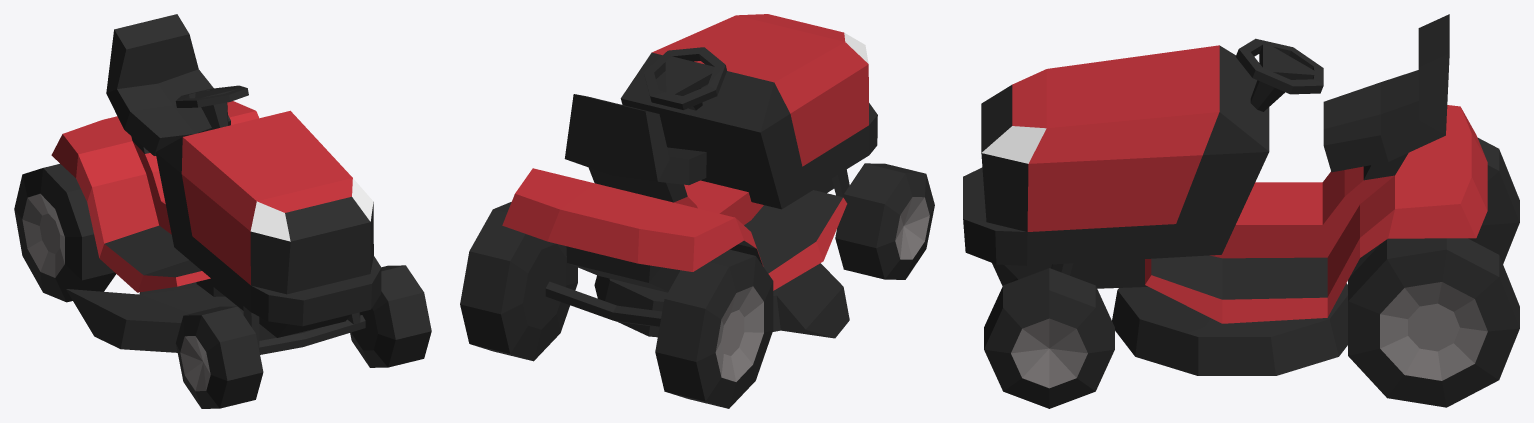
Rendered from vehicles_lawn-mower-ride.fbx.
3 views of the same model, side by side, from view 1: azimuth 30°, elevation 25°; view 2: azimuth 150°, elevation 25°; view 3: azimuth 270°, elevation 25° (orthographic). The views are drawn at different scales.
Visible parts, largest first — view 1: lawn_mower_ride_base, lawn_mower_ride_BR, lawn_mower_ride_FR, lawn_mower_ride_FL; view 2: lawn_mower_ride_base, lawn_mower_ride_BR, lawn_mower_ride_BL, lawn_mower_ride_FR; view 3: lawn_mower_ride_base, lawn_mower_ride_BL, lawn_mower_ride_FL, lawn_mower_ride_BR.
Part boxes in pixels (left/top/right/bottom): lawn_mower_ride_base: left=51, top=14, right=381, bottom=354; lawn_mower_ride_BR: left=14, top=164, right=115, bottom=302; lawn_mower_ride_FR: left=176, top=306, right=263, bottom=408; lawn_mower_ride_FL: left=350, top=265, right=431, bottom=367; lawn_mower_ride_base: left=502, top=14, right=877, bottom=338; lawn_mower_ride_BR: left=655, top=249, right=773, bottom=408; lawn_mower_ride_BL: left=460, top=202, right=577, bottom=361; lawn_mower_ride_FR: left=835, top=163, right=934, bottom=279; lawn_mower_ride_base: left=963, top=14, right=1487, bottom=375; lawn_mower_ride_BL: left=1348, top=238, right=1519, bottom=407; lawn_mower_ride_FL: left=984, top=268, right=1114, bottom=408; lawn_mower_ride_BR: left=1468, top=137, right=1519, bottom=263.
Bounding box in the file's own units: 123 × 124 × 200.
